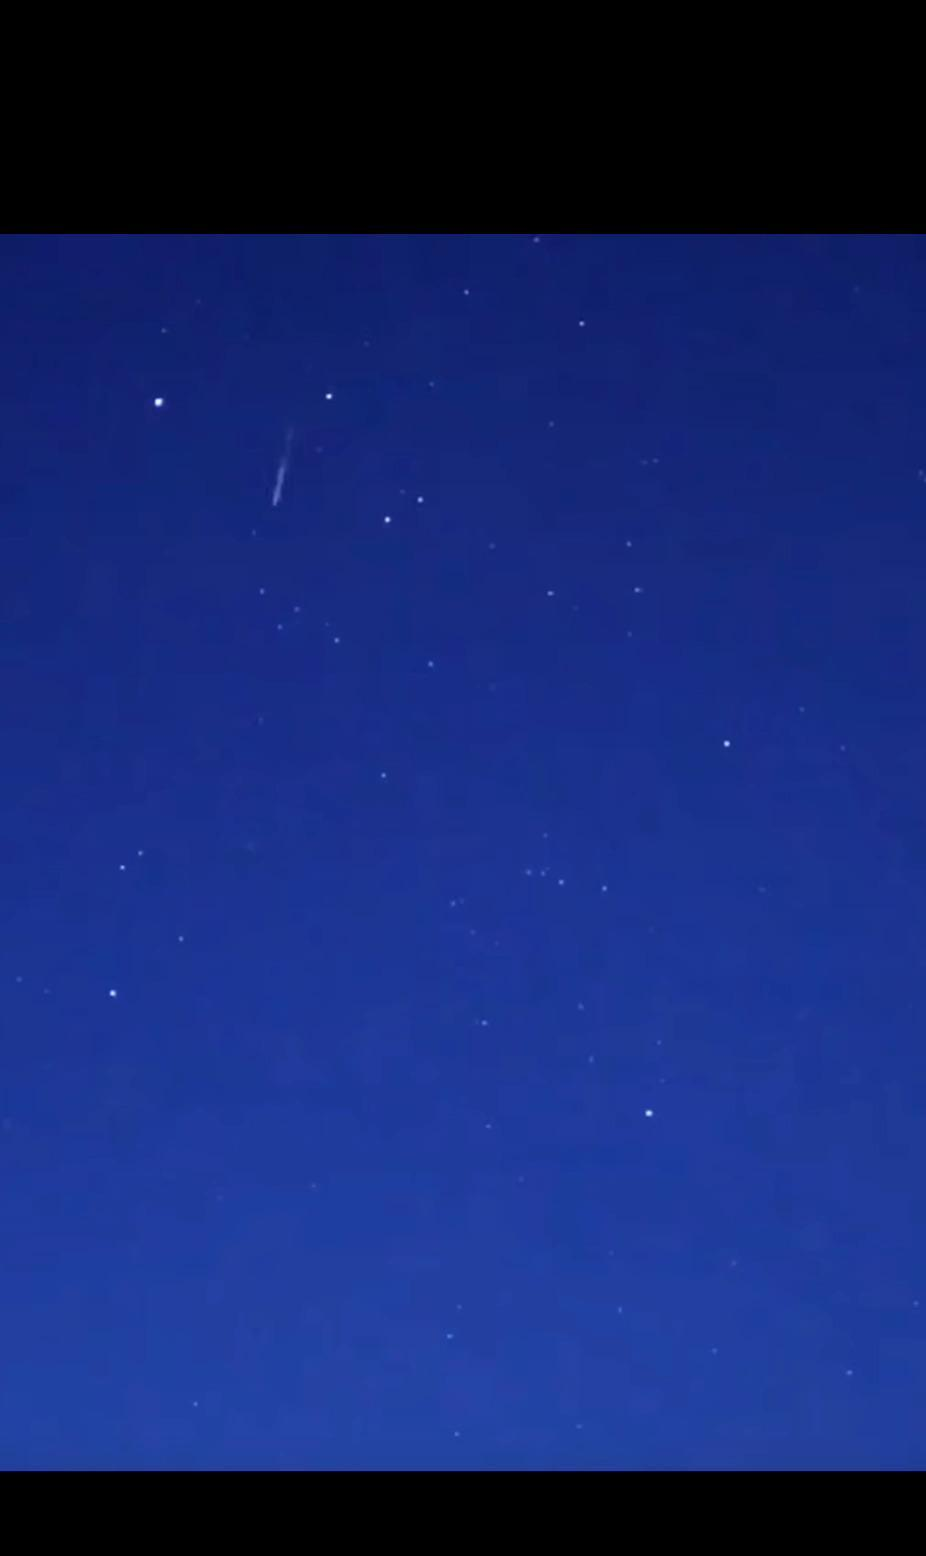meteorite: (251, 420, 317, 522)
